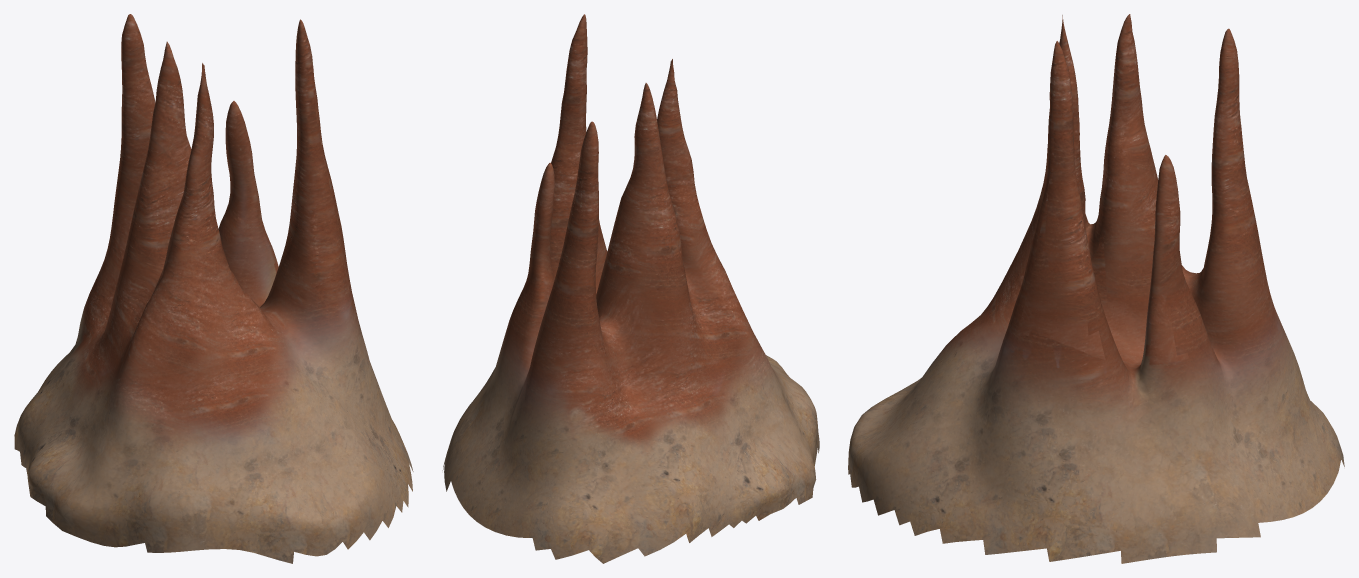
The model's file is stalactite01.fbx.
3 views of the same model, side by side, from view 1: azimuth 30°, elevation 25°; view 2: azimuth 150°, elevation 25°; view 3: azimuth 270°, elevation 25° (orthographic). The views are drawn at different scales.
Visible parts, largest first — view 1: stalactite; view 2: stalactite; view 3: stalactite.
Part boxes in pixels (bbox=[...]): stalactite: bbox=[14, 14, 413, 563]; stalactite: bbox=[442, 14, 819, 563]; stalactite: bbox=[848, 14, 1344, 563].
Bounding box in the file's own units: 1.95 × 2.5 × 2.33.
1 material, 1 textured.
